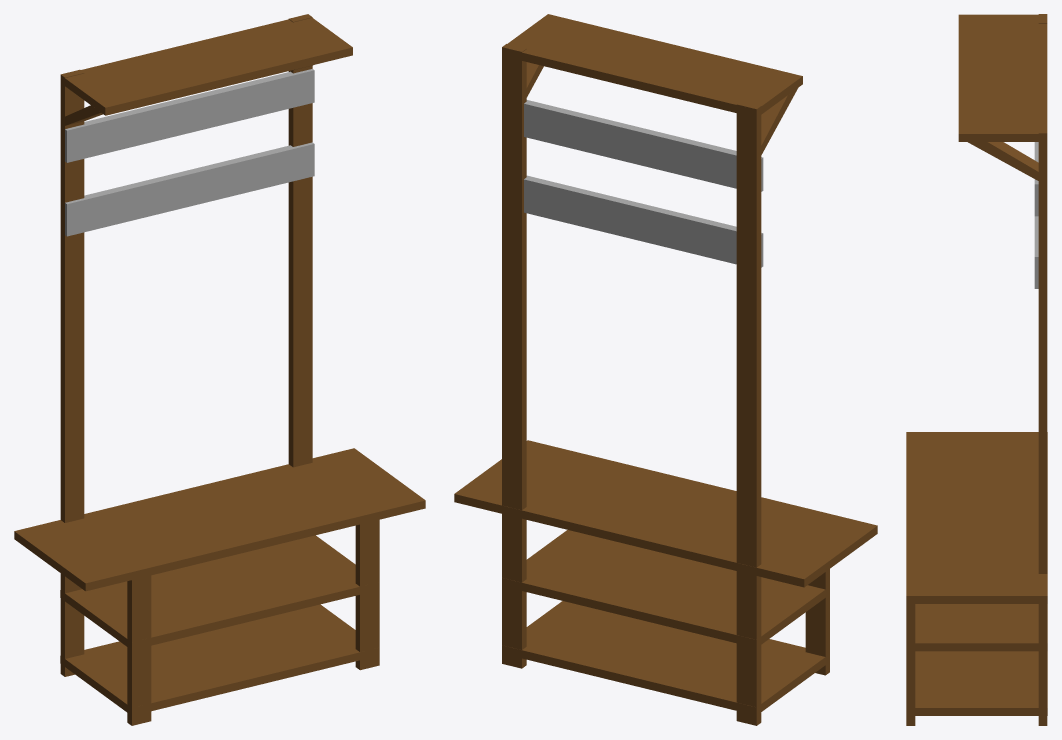
3 views of the same model, side by side, from view 1: azimuth 30°, elevation 25°; view 2: azimuth 150°, elevation 25°; view 3: azimuth 270°, elevation 25° (orthographic). The views are drawn at different scales.
Parts seen in each view (by area): view 1: seat, middle_shelf, bottom_shelf, top_shelf, rear_upright, lower_band, upper_band, rear_upright.001, front_leg, front_leg.001; view 2: seat, middle_shelf, bottom_shelf, rear_upright, rear_upright.001, top_shelf, lower_band, upper_band, front_leg, shelf_brace; view 3: seat, top_shelf, bottom_shelf, middle_shelf, rear_upright.001, front_leg.001, shelf_brace.001, lower_band, upper_band.
Part boxes in pixels (x1,y1,x2,y2): seat: [14, 448, 425, 591]; middle_shelf: [60, 535, 379, 650]; bottom_shelf: [60, 604, 379, 715]; top_shelf: [65, 18, 352, 115]; rear_upright: [60, 69, 84, 676]; lower_band: [65, 142, 314, 236]; upper_band: [65, 69, 314, 162]; rear_upright.001: [288, 14, 312, 467]; front_leg: [127, 575, 151, 725]; front_leg.001: [355, 519, 379, 670]; seat: [454, 440, 877, 587]; middle_shelf: [502, 530, 825, 647]; bottom_shelf: [502, 601, 825, 715]; rear_upright: [736, 101, 761, 725]; rear_upright.001: [502, 44, 526, 668]; top_shelf: [502, 14, 802, 117]; lower_band: [524, 175, 763, 267]; upper_band: [524, 100, 763, 191]; front_leg: [805, 569, 829, 675]; shelf_brace: [761, 88, 797, 154]; seat: [906, 432, 1047, 603]; top_shelf: [958, 14, 1047, 141]; bottom_shelf: [915, 651, 1047, 715]; middle_shelf: [915, 604, 1047, 651]; rear_upright.001: [1038, 124, 1047, 725]; front_leg.001: [906, 604, 915, 725]; shelf_brace.001: [968, 142, 1038, 180]; lower_band: [1034, 216, 1038, 288]; upper_band: [1034, 142, 1038, 216].
Bounding box in the file's own units: 1.07 × 1.8 × 0.3888.
